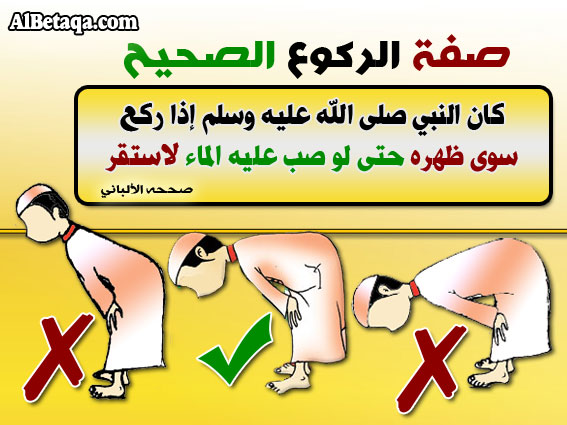ruku: (155, 216, 356, 404)
